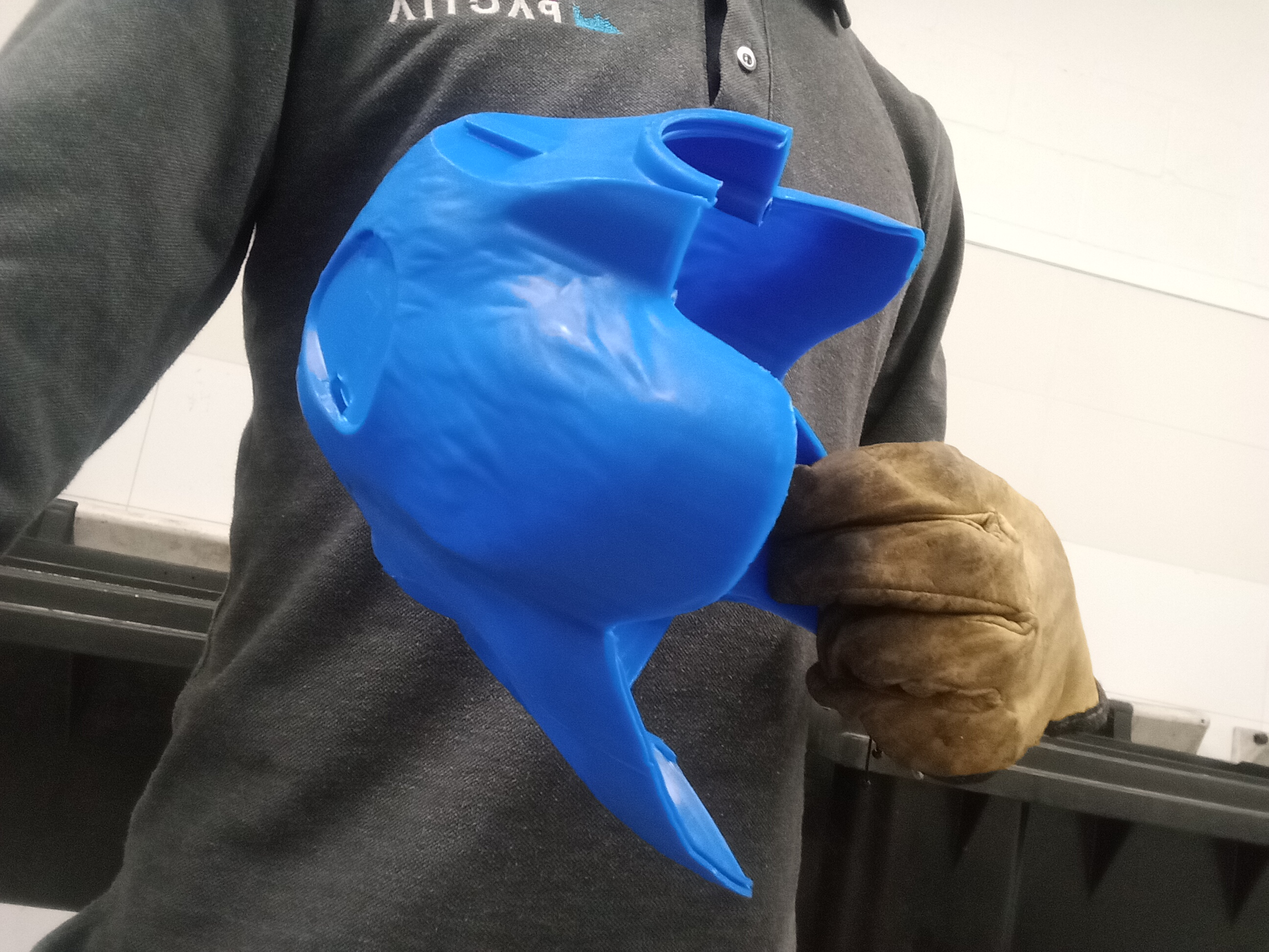Ordinario: (295, 106, 925, 902)
